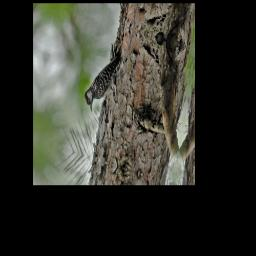Woodpecker: (82, 40, 124, 122)
